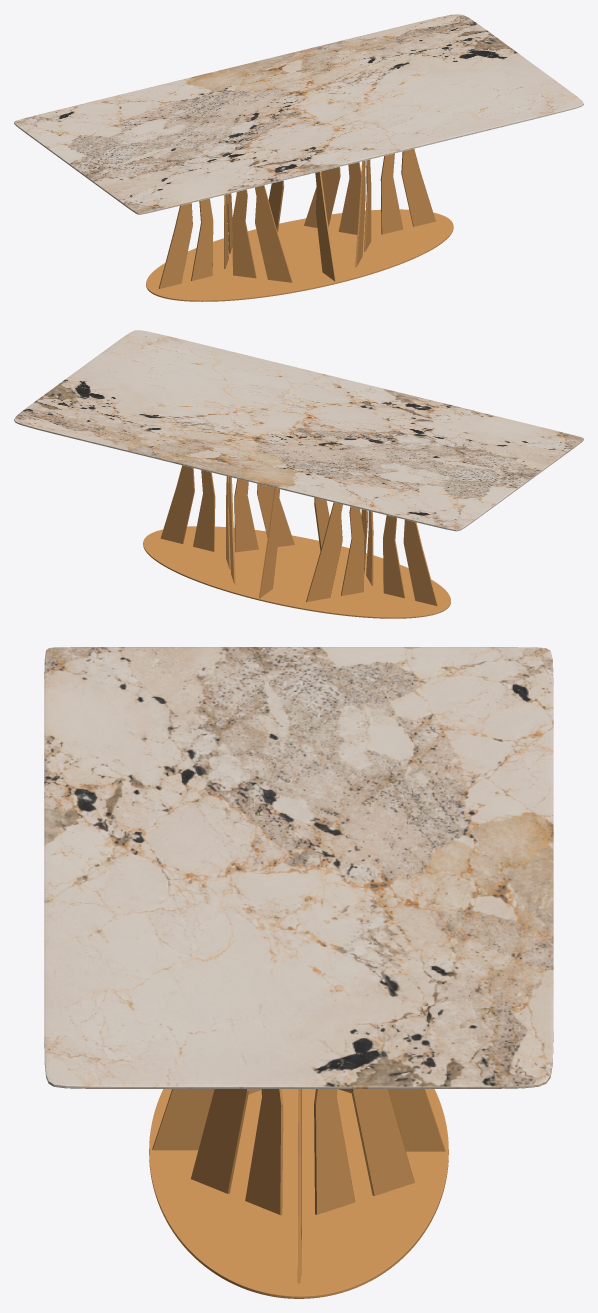
Rendered from SBH_Gun_Craft.glb.
3 views of the same model, one above another, from view 1: azimuth 30°, elevation 25°; view 2: azimuth 150°, elevation 25°; view 3: azimuth 270°, elevation 25° (orthographic). The views are drawn at different scales.
Visible parts, largest first — view 1: Gun Craft; view 2: Gun Craft; view 3: Gun Craft.
Boxes of the visible parts, box(x1,y1,x2,y2) form: Gun Craft: box(14, 14, 583, 301); Gun Craft: box(14, 330, 583, 618); Gun Craft: box(44, 647, 553, 1298).
Bounding box in the file's own units: 1.29 × 0.3927 × 0.6311.
Materials: 3 (1 with a texture image).
